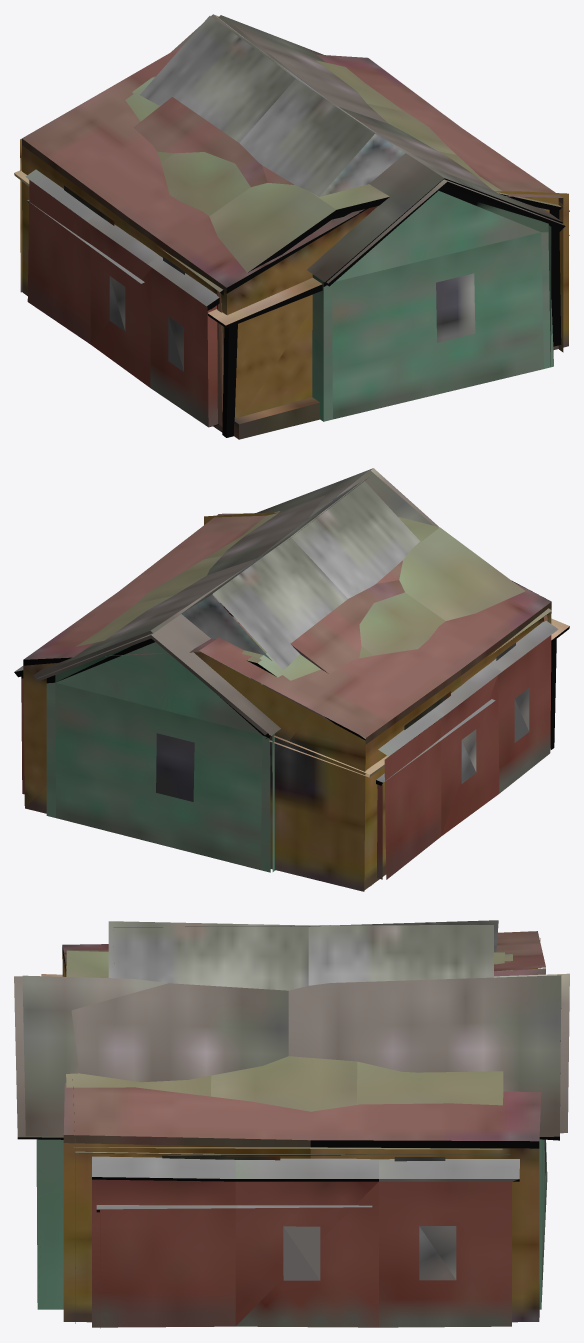
Rendered from housesLowPoly.glb.
The picture shows the model from 3 angles, top to bottom: view 1: azimuth 30°, elevation 25°; view 2: azimuth 150°, elevation 25°; view 3: azimuth 270°, elevation 25°; orthographic projection. The views are drawn at different scales.
Visible parts, largest first — view 1: greenHouse_Baked, yellowHouse_Baked, redHouse_Baked.002, whiteHouse_Baked, pinkHouse_Baked, quadSmallHouse_Baked; view 2: greenHouse_Baked, yellowHouse_Baked, redHouse_Baked.002, whiteHouse_Baked, pinkHouse_Baked, quadSmallHouse_Baked; view 3: redHouse_Baked.002, greenHouse_Baked, yellowHouse_Baked, whiteHouse_Baked, pinkHouse_Baked.
Boxes of the visible parts, bbox=[...] form: greenHouse_Baked: bbox=[14, 14, 565, 439]; yellowHouse_Baked: bbox=[20, 45, 568, 432]; redHouse_Baked.002: bbox=[25, 169, 569, 427]; whiteHouse_Baked: bbox=[140, 16, 407, 196]; pinkHouse_Baked: bbox=[125, 60, 562, 426]; quadSmallHouse_Baked: bbox=[133, 97, 293, 186]; greenHouse_Baked: bbox=[33, 468, 569, 885]; yellowHouse_Baked: bbox=[23, 512, 551, 891]; redHouse_Baked.002: bbox=[14, 620, 558, 879]; whiteHouse_Baked: bbox=[180, 478, 420, 670]; pinkHouse_Baked: bbox=[76, 511, 551, 740]; quadSmallHouse_Baked: bbox=[220, 560, 404, 673]; redHouse_Baked.002: bbox=[92, 1156, 519, 1328]; greenHouse_Baked: bbox=[14, 973, 569, 1309]; yellowHouse_Baked: bbox=[62, 931, 545, 1323]; whiteHouse_Baked: bbox=[108, 920, 498, 990]; pinkHouse_Baked: bbox=[66, 950, 512, 1155].
Bounding box in the file's own units: 0.0652 × 0.0419 × 0.0693.
6 materials, 6 textured.
